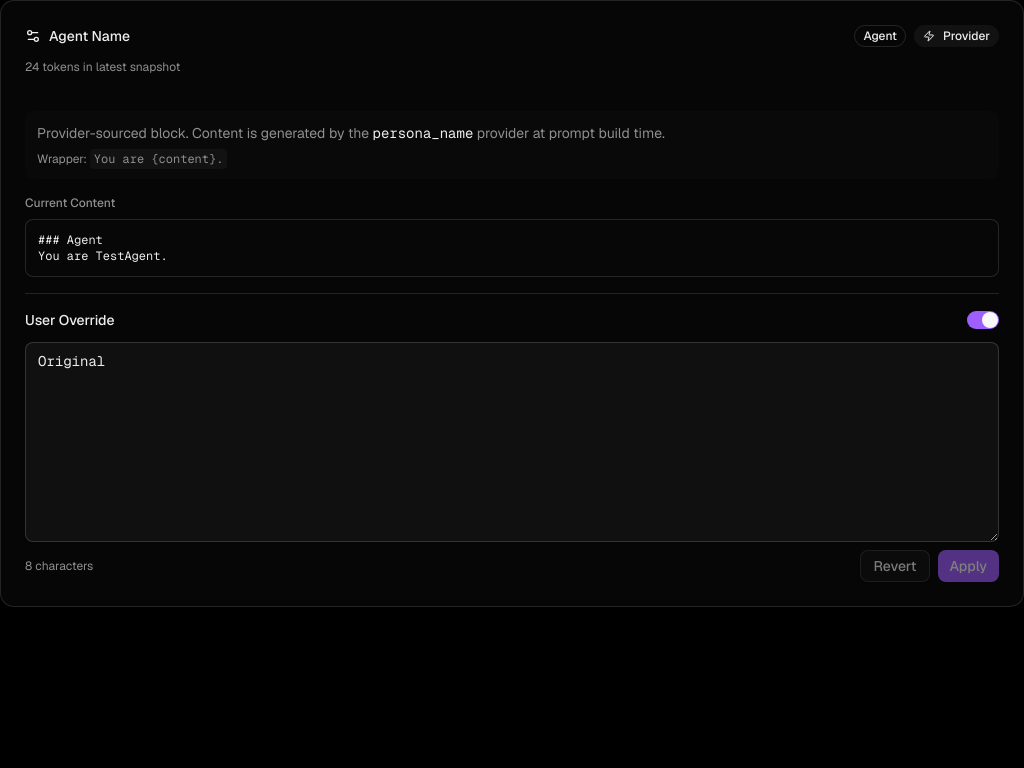
it: BlockDetail › override editor › should revert textarea to original on Revert click
The image size is (1024, 768).
Replace the text in the text box with placeholder "Enter override content for this block..." with "Modified": x=512, y=442 [25,342,999,542]
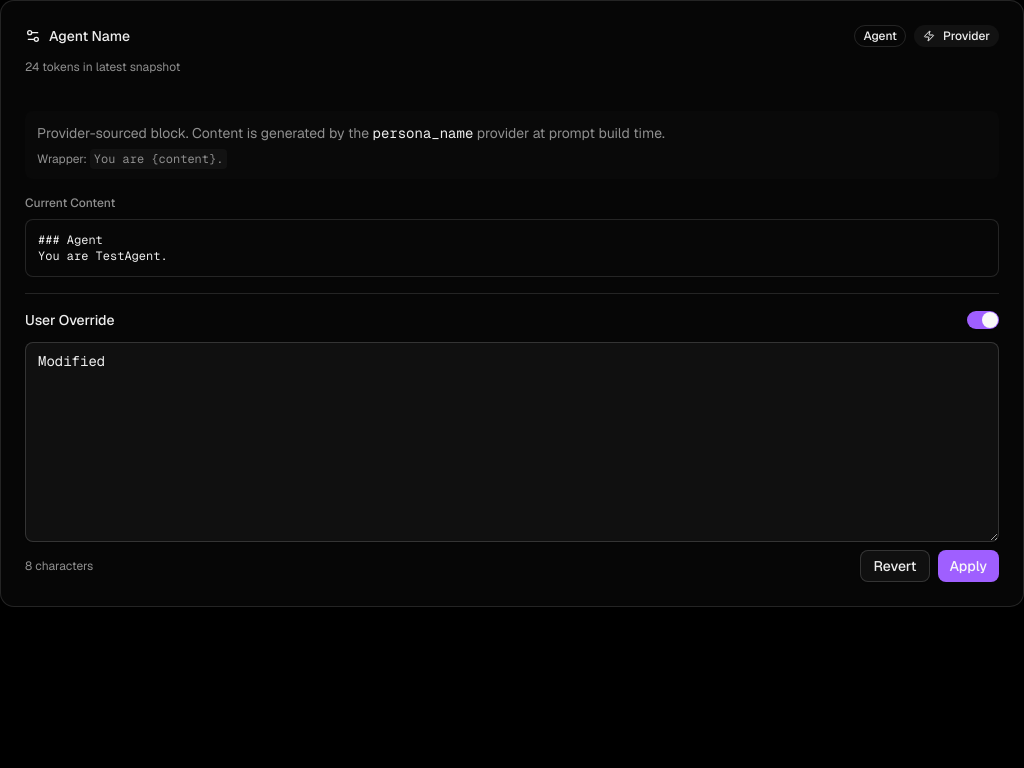
Click the button "Revert": x=895, y=566 [860,550,930,582]
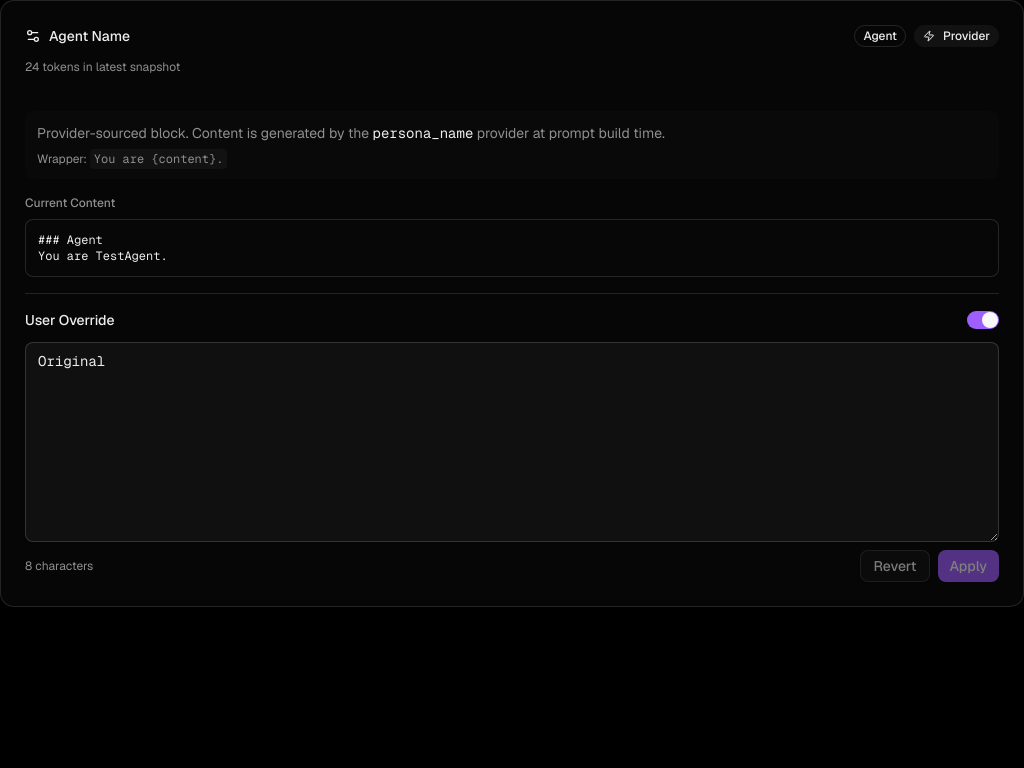
Now the text box with placeholder "Enter override content for this block..." holds "Original", box [25,342,999,542]
